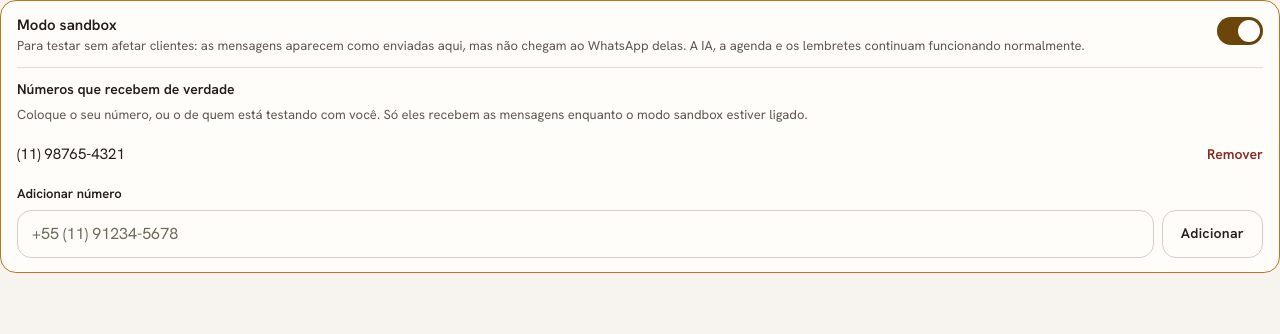
Test: Configurações › IA: modo sandbox › adicionar número: valida DDD, recusa repetido e grava a lista canônica
The image size is (1280, 334).
Type "1234" into the field labelled "Adicionar número".
click(585, 234); type("1234")  # box [17, 210, 1154, 258]
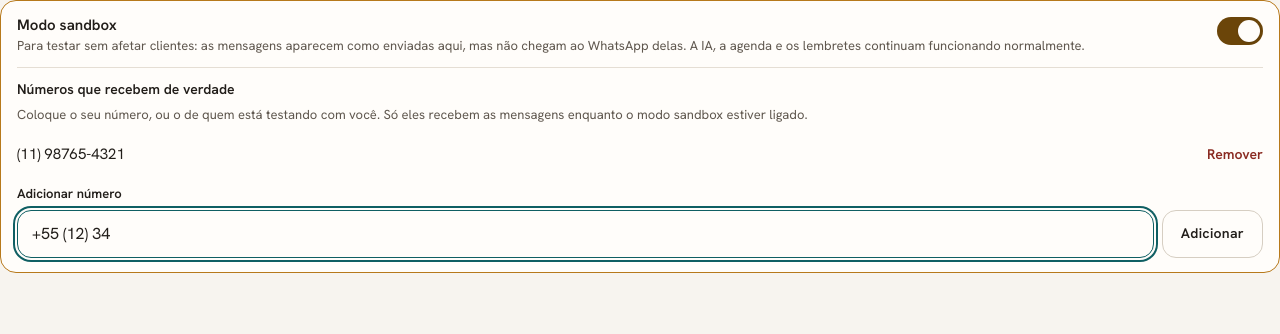
Click the button "Adicionar".
click(1212, 234)  # box [1162, 210, 1263, 258]
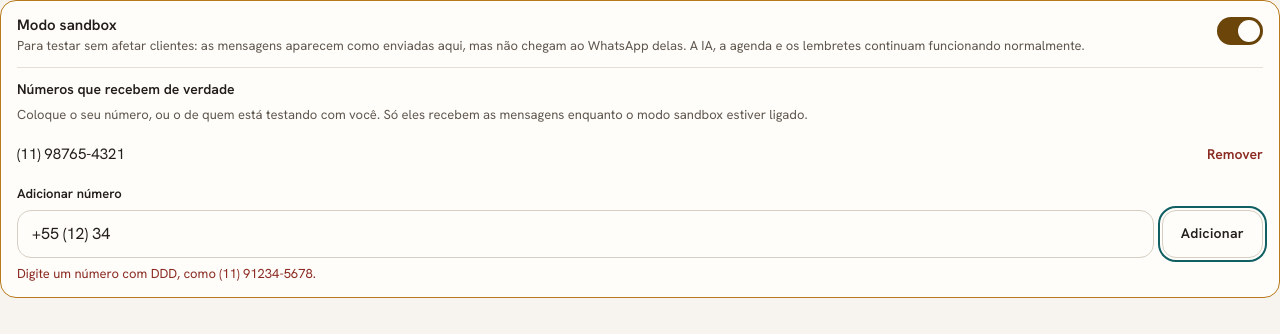
expect the message reads "Digite um número com DDD, como (11) 91234-5678.": met, box [17, 265, 316, 282]
// O mesmo número sem o 9º dígito é repetido.
Replace the text in the field labelled "Adicionar número" with "1187654321" at (585, 234), box [17, 210, 1154, 258]
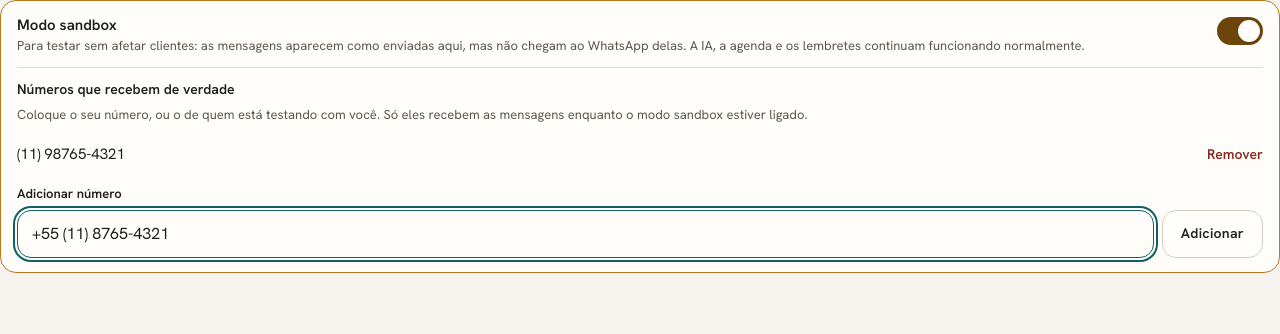
Click the button "Adicionar".
click(1212, 234)  # box [1162, 210, 1263, 258]
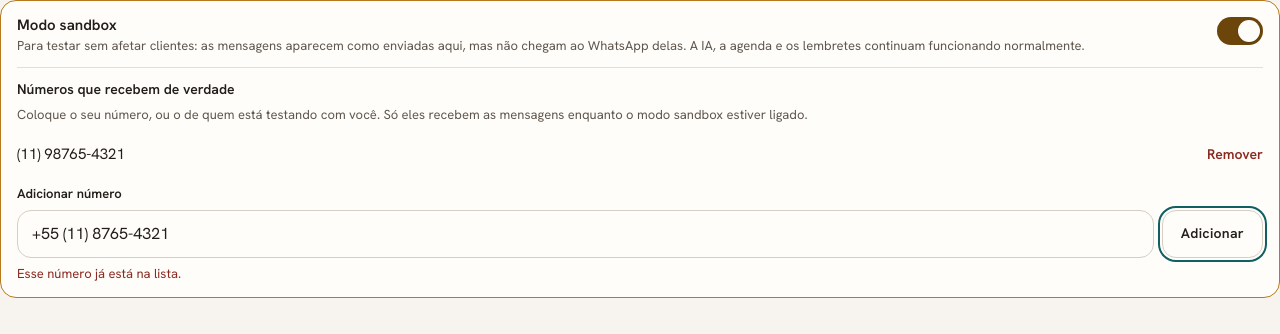
expect the message reads "Esse número já está na lista.": met, box [17, 265, 181, 282]
Replace the text in the field labelled "Adicionar número" with "21999990000" at (585, 234), box [17, 210, 1154, 258]
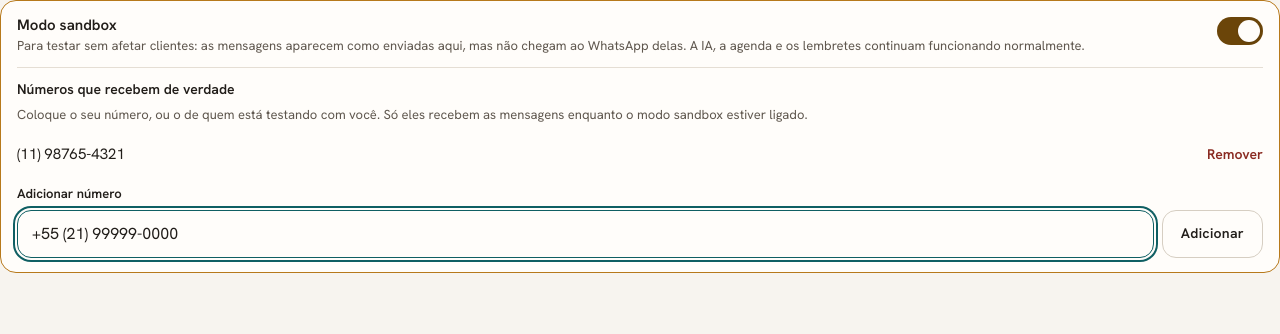
expect the field labelled "Adicionar número" holds "+55 (21) 99999-0000": met, box [17, 210, 1154, 258]
Click the button "Adicionar".
click(1212, 234)  # box [1162, 210, 1263, 258]
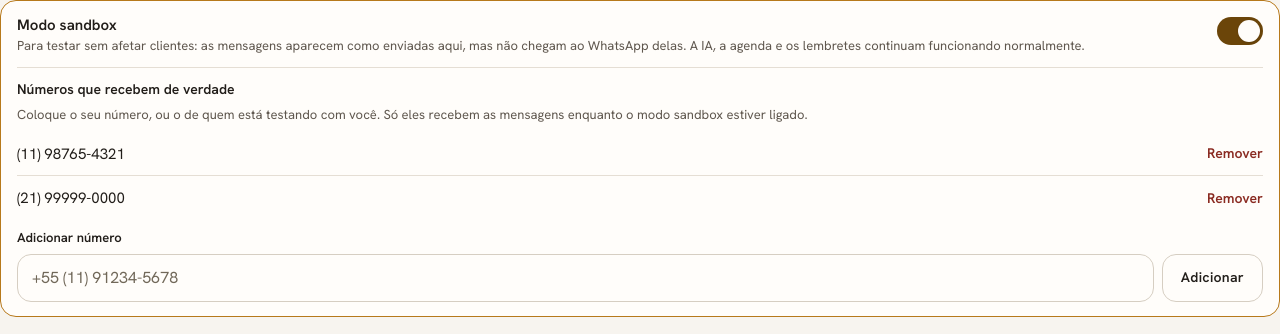
expect the text "(11) 98765-4321" is shown: met, box [17, 143, 125, 165]
expect the text "(21) 99999-0000" is shown: met, box [17, 187, 125, 210]
